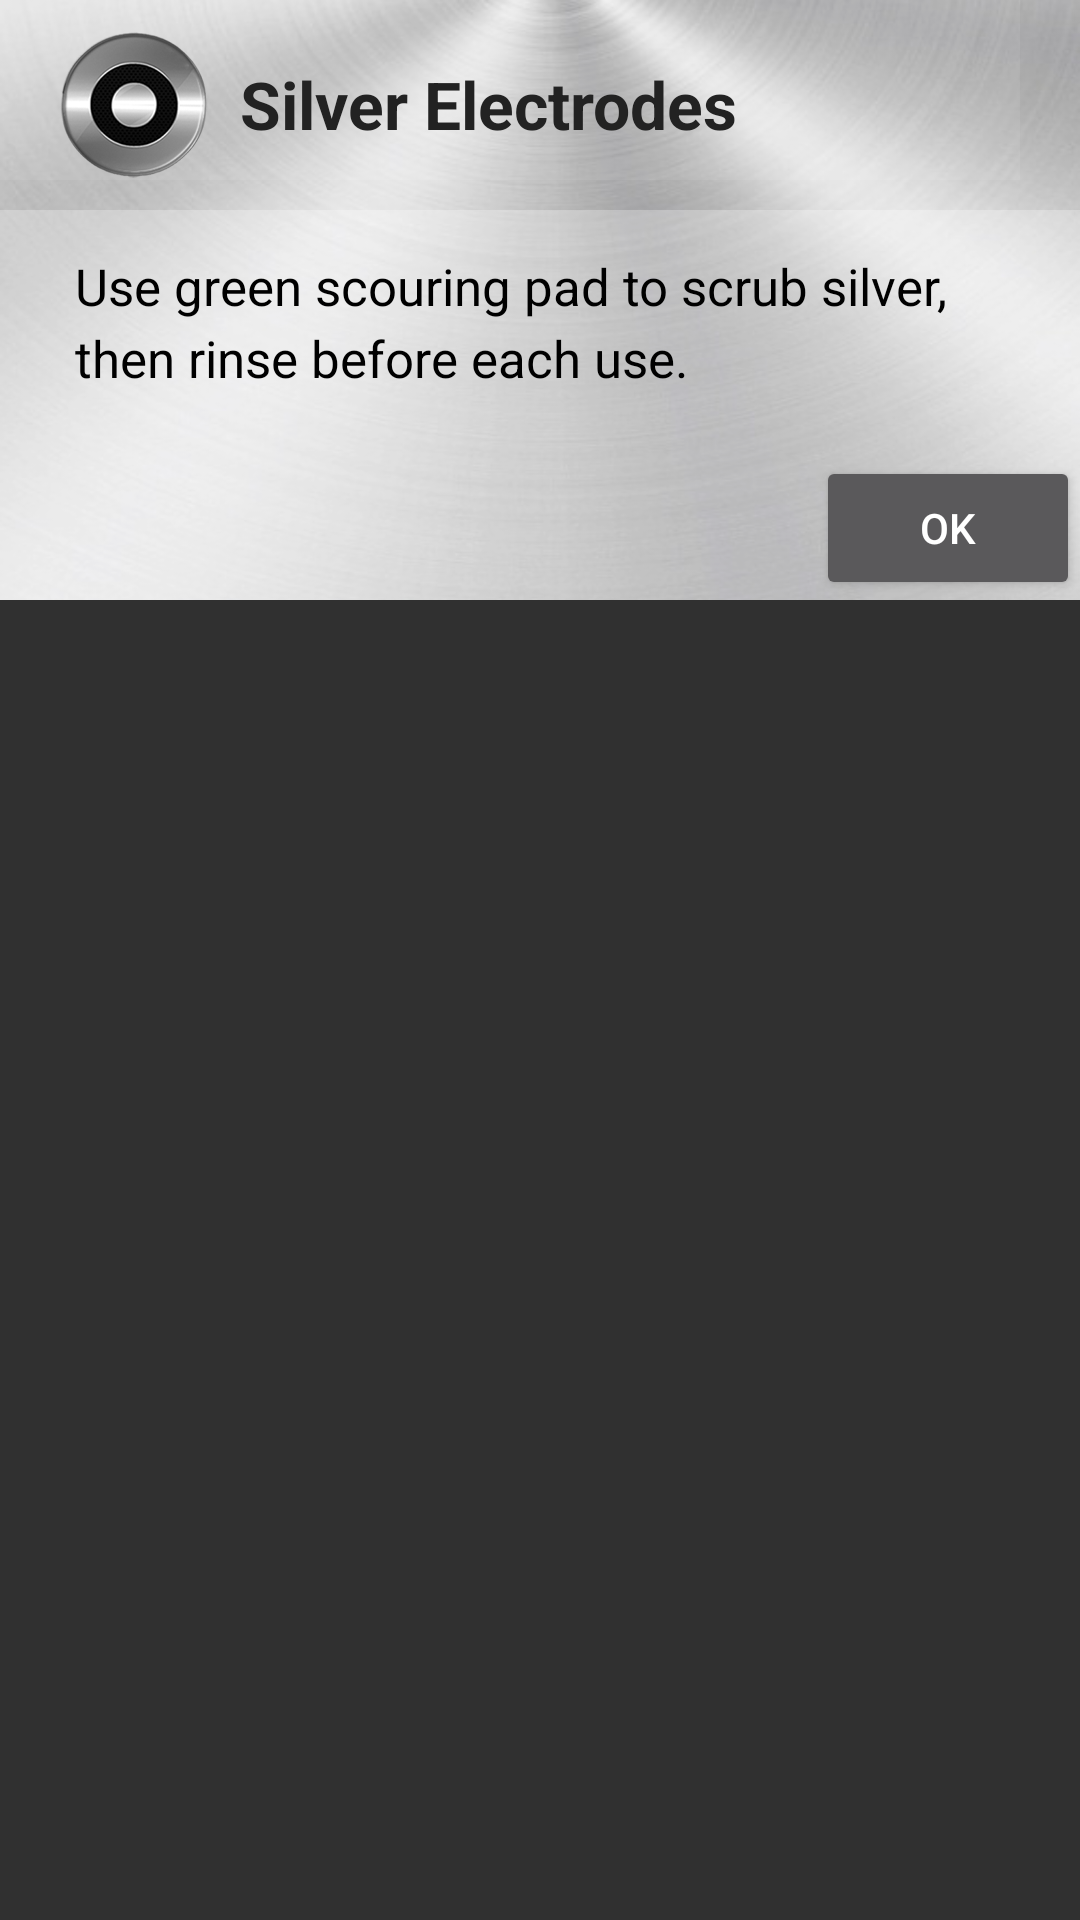

Screen size 1080x1920. Icon name, then its box in pixels as (x1, y1, x2, y2):
target: (60, 30, 210, 178)
